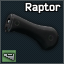M870 Shockwave Raptor grip: (0, 0, 64, 64)
